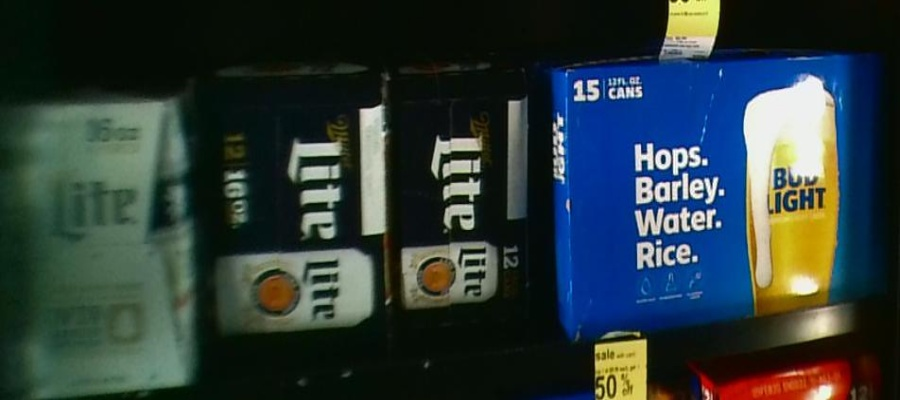bottle: (548, 56, 881, 310), (1, 88, 200, 394), (202, 66, 388, 340), (387, 63, 535, 334)
